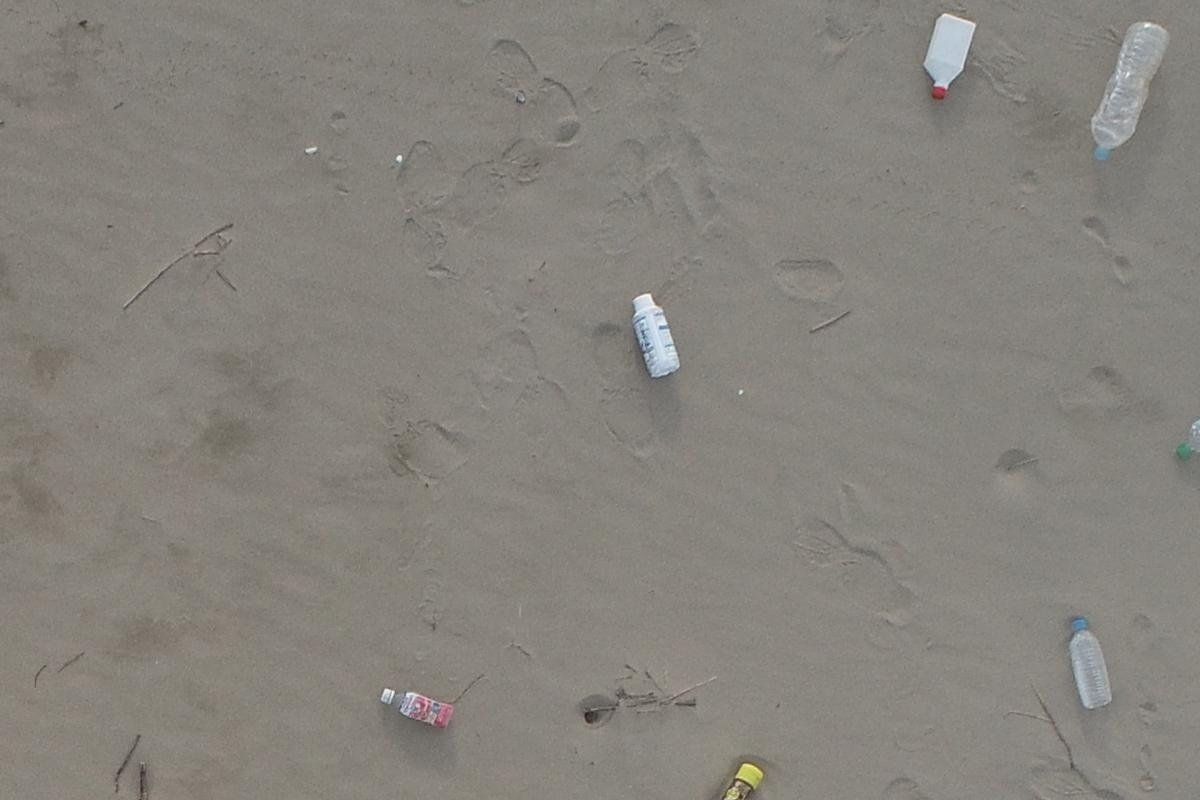(11)PET_Bottle: (1091, 21, 1168, 162), (629, 288, 679, 380), (1068, 619, 1113, 708), (379, 685, 455, 732), (1175, 390, 1200, 459)
(11)Plastic_ETC: (695, 762, 766, 800)
(22)Plastic_ETC: (921, 11, 979, 98)
